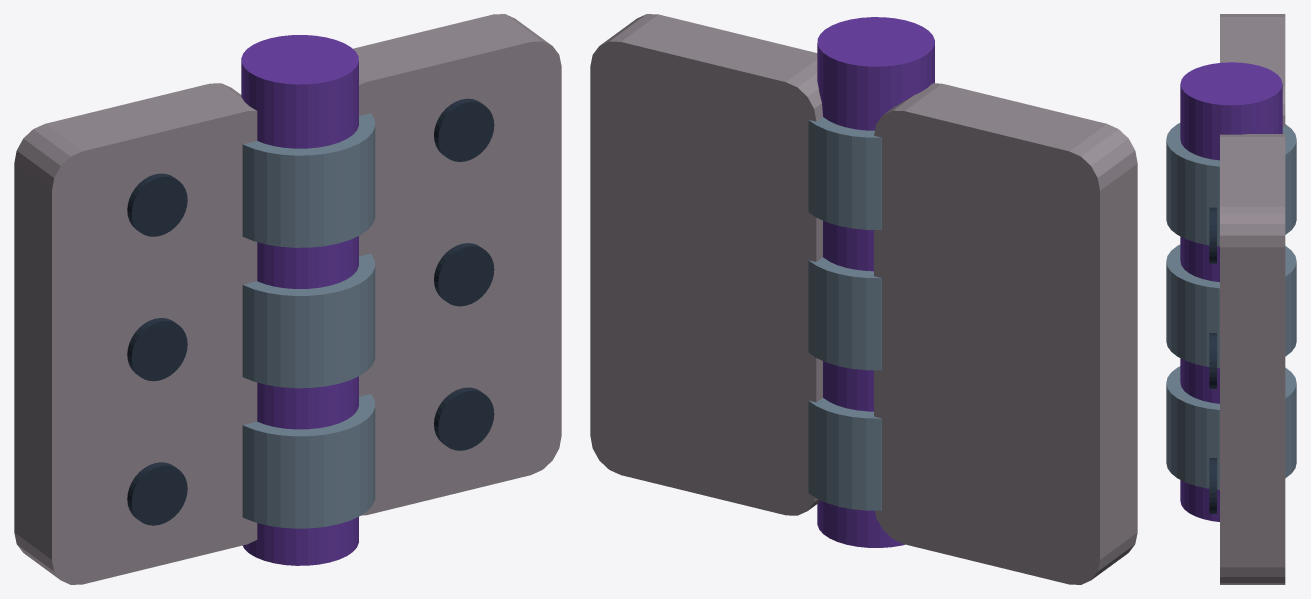
The model's file is hingeplate.glb.
3 renders of one model, left to right at view 1: azimuth 30°, elevation 25°; view 2: azimuth 150°, elevation 25°; view 3: azimuth 270°, elevation 25°, orthographic. The views are drawn at different scales.
Visible parts, largest first — view 1: leaf-1, leaf1, pin, fixing hole (×6), knuckle0.24, knuckle0.94, knuckle0.59; view 2: leaf-1, leaf1, pin, knuckle0.24, knuckle0.59, knuckle0.94; view 3: leaf1, pin, knuckle0.24, knuckle0.59, knuckle0.94, leaf-1, fixing hole (×3).
Part boxes in pixels (x1,y1,x2,y2): leaf-1: (14, 83, 257, 584); leaf1: (353, 14, 561, 515); pin: (241, 35, 358, 565); fixing hole (×6): (127, 98, 494, 525); knuckle0.24: (242, 394, 375, 528); knuckle0.94: (242, 113, 375, 247); knuckle0.59: (242, 253, 375, 388); leaf-1: (874, 83, 1137, 584); leaf1: (590, 14, 822, 515); pin: (817, 17, 934, 547); knuckle0.24: (808, 398, 881, 510); knuckle0.59: (808, 257, 881, 370); knuckle0.94: (808, 117, 881, 229); leaf1: (1220, 134, 1285, 584); pin: (1180, 62, 1282, 521); knuckle0.24: (1166, 366, 1296, 489); knuckle0.59: (1166, 244, 1296, 368); knuckle0.94: (1166, 123, 1296, 246); leaf-1: (1220, 14, 1285, 127); fixing hole (×3): (1209, 207, 1216, 513).
Bounding box in the file's own units: 1.33 × 1.2 × 0.34.
